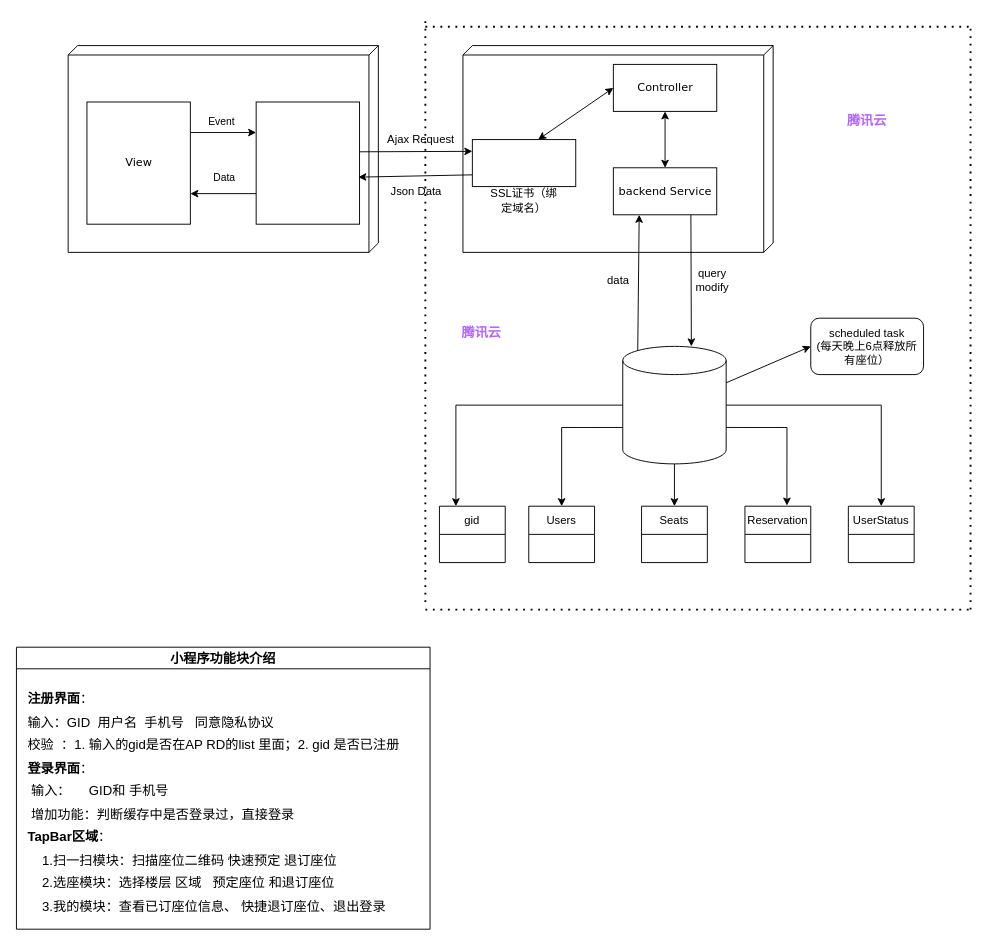
The diagram is 993 pixels wide and 946 high, and some of its shapes have lost their labels. Each missing label, with the box of its shape:
API Interface: (471, 139, 576, 187)
App Service: (255, 101, 360, 224)
DataBase: (622, 345, 726, 464)
前端微信小程序: (67, 45, 378, 252)
后端服务: (462, 45, 773, 252)
